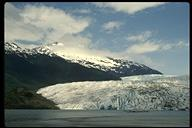cloud: (7, 3, 92, 37)
mountain: (4, 39, 189, 111)
sky: (68, 4, 187, 58)
snow: (59, 86, 115, 106)
water: (6, 109, 189, 125)
